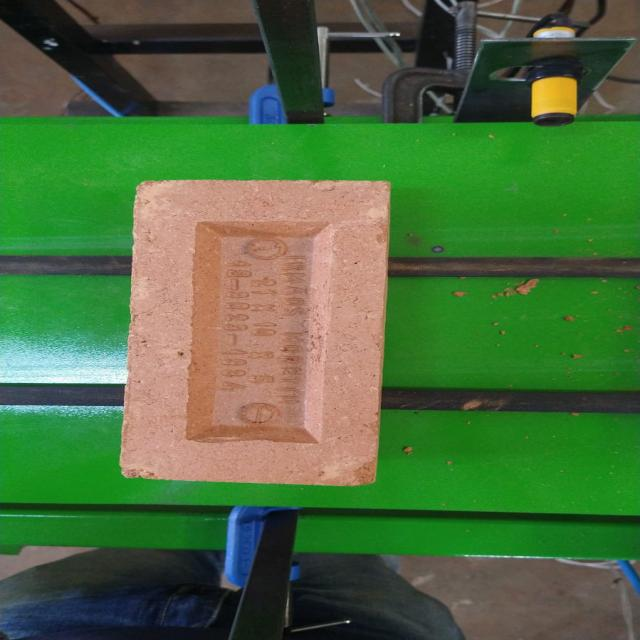bricks: (116, 180, 388, 484)
